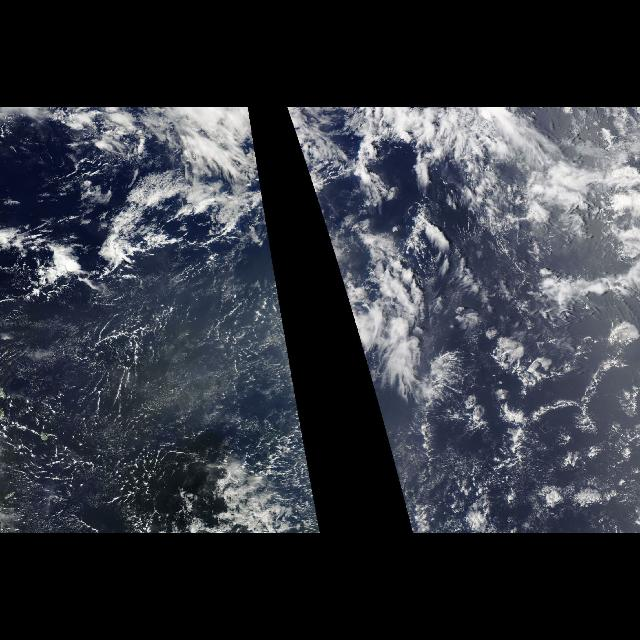Flower: (448, 297, 640, 533)
Gravel: (8, 294, 262, 520)
Sugar: (0, 294, 292, 534)
